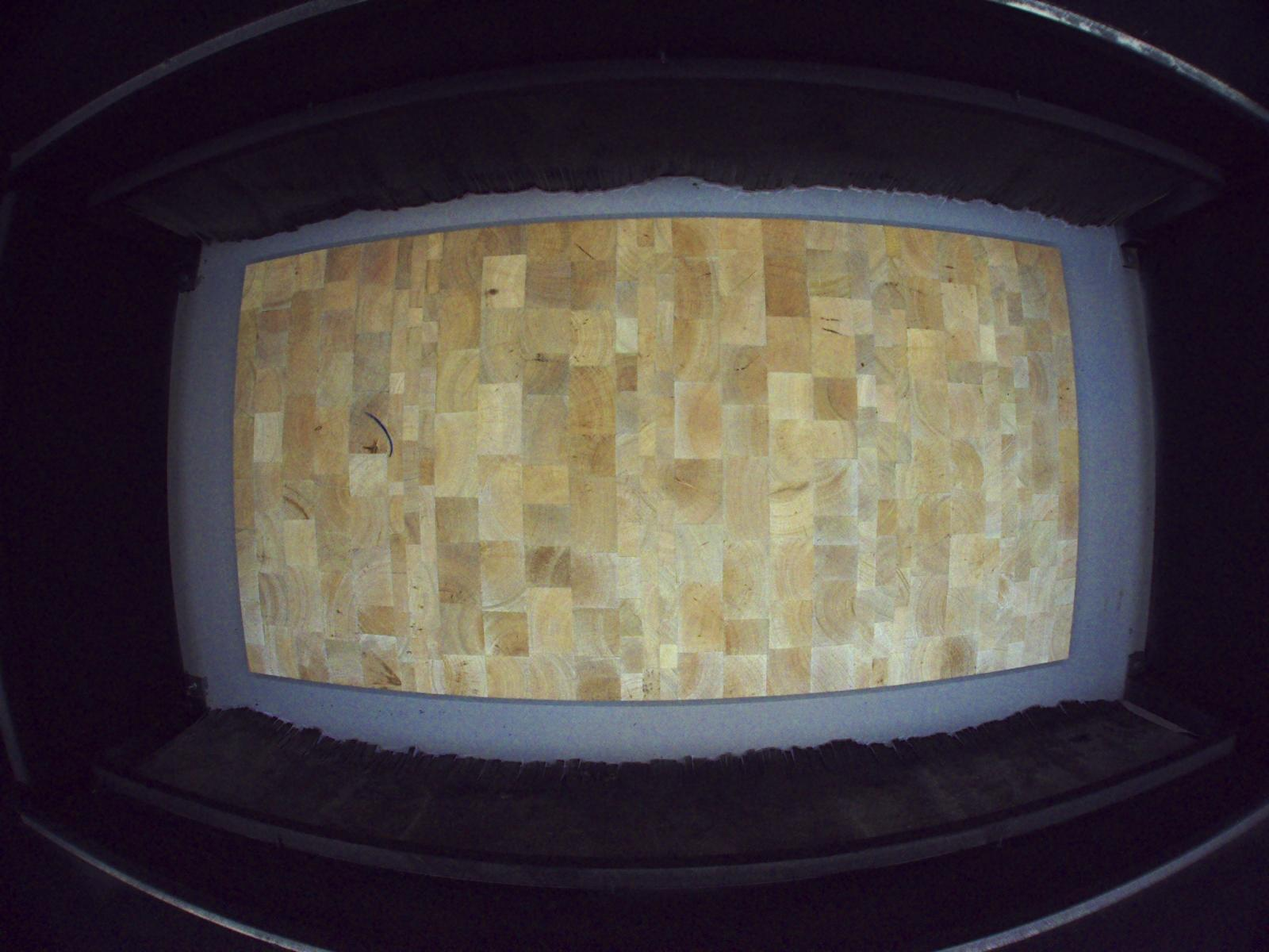nudillo: (360, 439, 381, 456)
